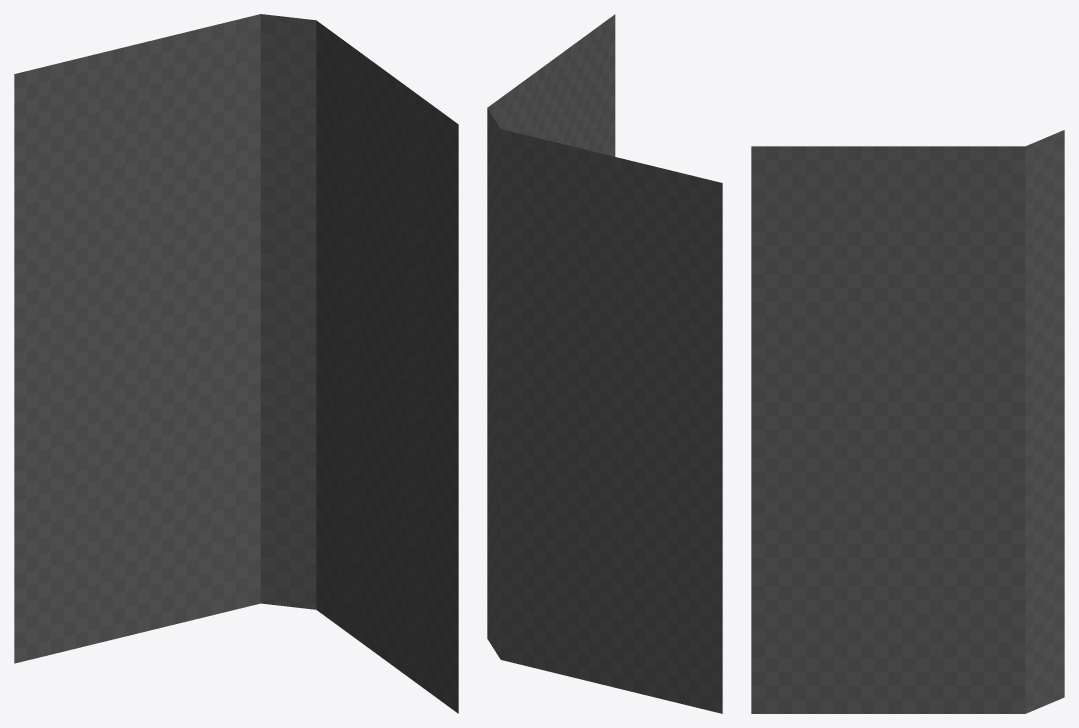
3 renders of one model, left to right at view 1: azimuth 30°, elevation 25°; view 2: azimuth 150°, elevation 25°; view 3: azimuth 270°, elevation 25°, orthographic. The views are drawn at different scales.
Visible parts, largest first — view 1: CubeBackRight; view 2: CubeBackRight; view 3: CubeBackRight.
Part boxes in pixels (x1,y1,x2,y2): CubeBackRight: (14,14,458,713); CubeBackRight: (487,14,722,713); CubeBackRight: (751,130,1064,713).
Size of the model in its own units: 2 by 4 by 2.
1 material, 1 textured.
